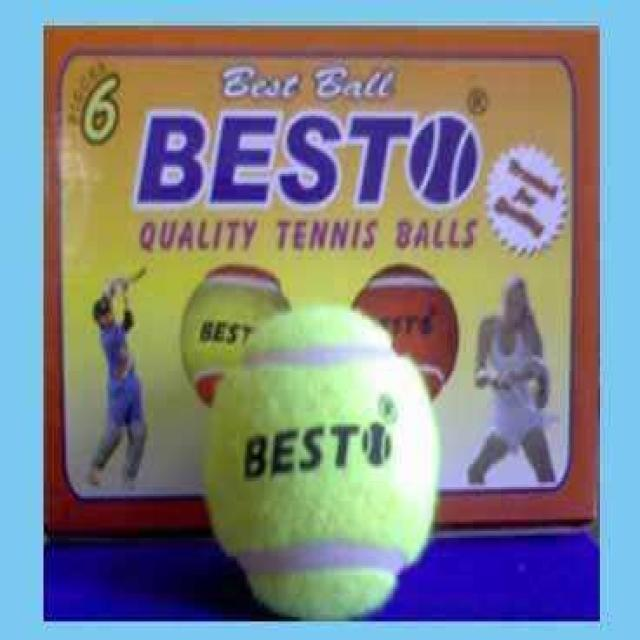Tennis_Ball: (202, 314, 440, 620)
